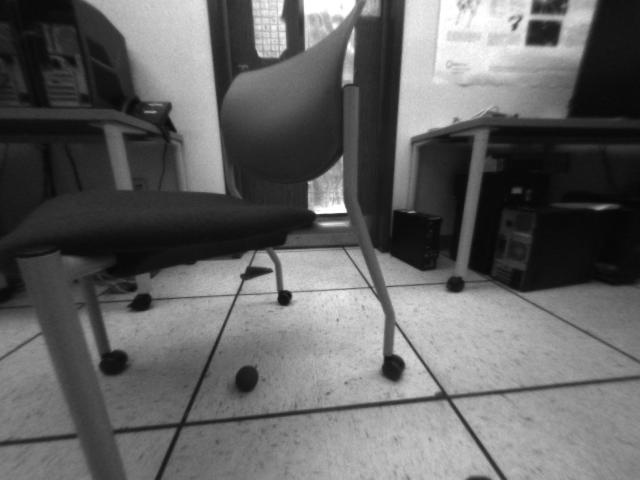dogtoy: (226, 357, 270, 398)
